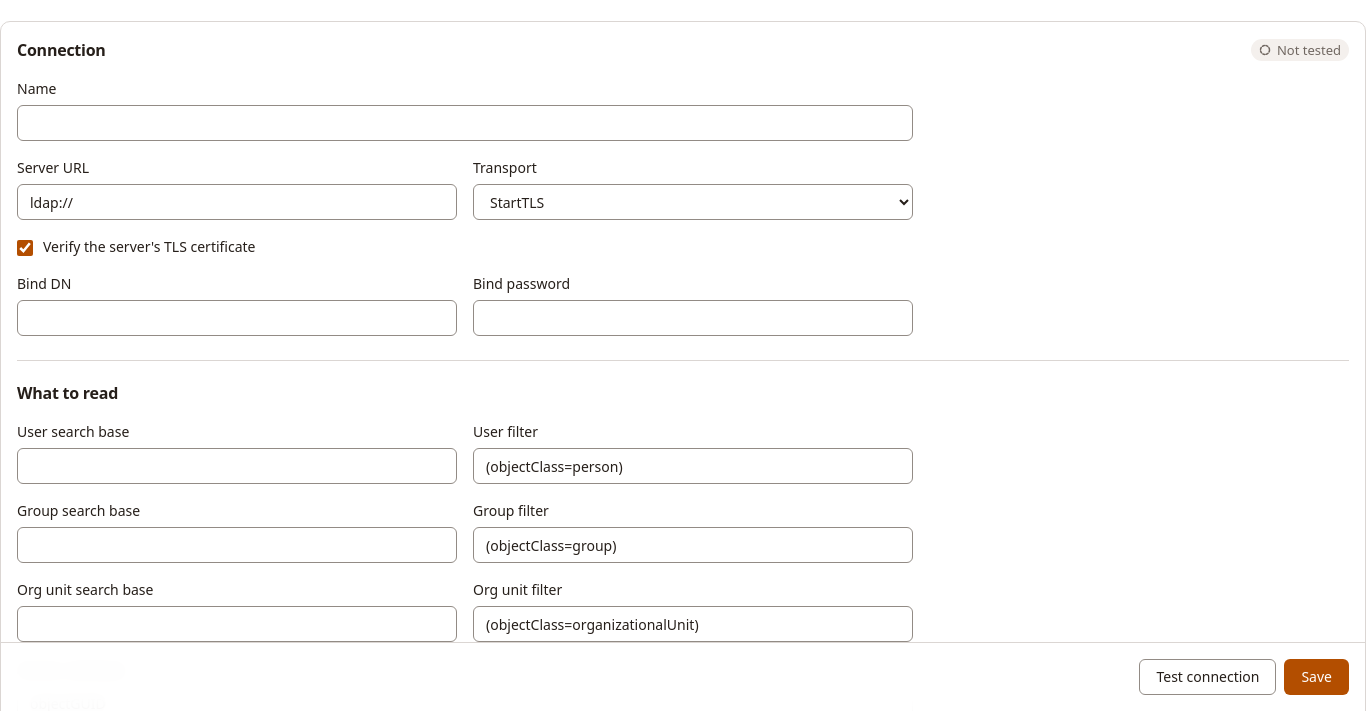
Test: testing the connection › reports a refused connection as a result, not as a page failure
The image size is (1366, 711).
Click the button "Test connection" at x=1208, y=677, box 1139,659 -> 1276,695
(page scrolled)
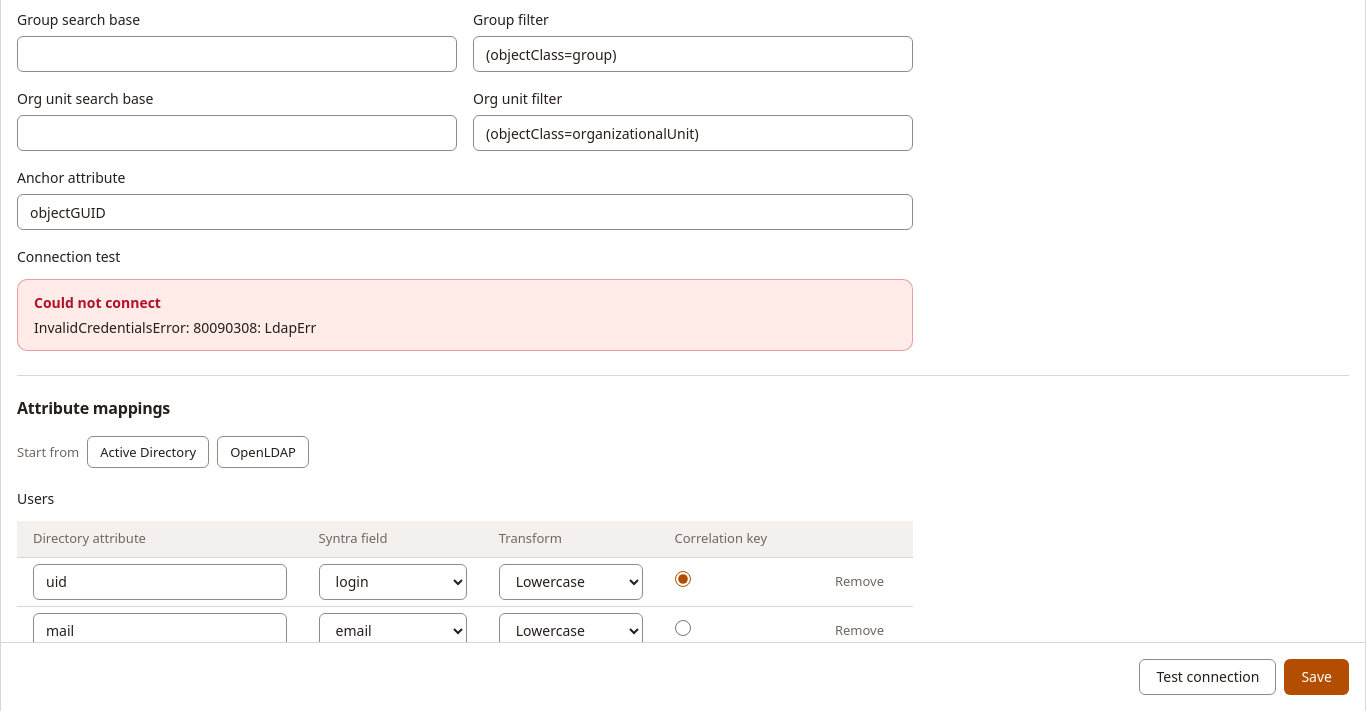
Result: the text "Could not connect" is shown at 34,293 -> 161,312
Result: the text "InvalidCredentialsError: 80090308: LdapErr" is shown at 34,318 -> 316,337
